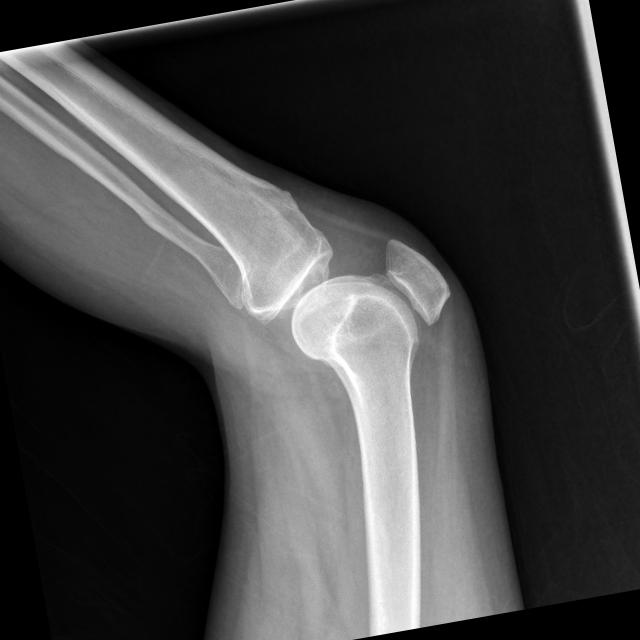Knee: (226, 192, 460, 382)
